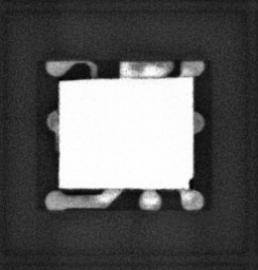DIE_BROKEN: (186, 175, 195, 191)
